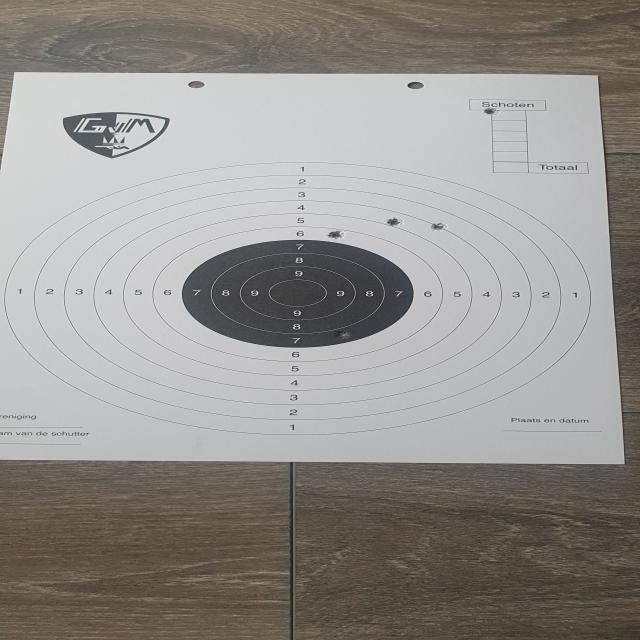5: (428, 222, 448, 232), (387, 217, 405, 227)
7: (325, 230, 347, 240)
8: (334, 331, 352, 338)
Black Contour: (182, 239, 414, 348)
Target: (8, 164, 597, 439)
hole: (482, 106, 503, 115)
